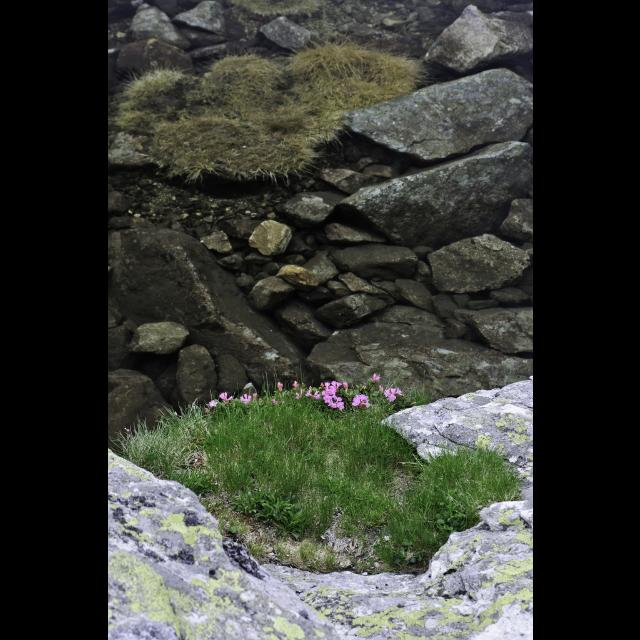Flower: (200, 381, 306, 412), (310, 386, 368, 424), (376, 384, 404, 404), (371, 372, 381, 383)
